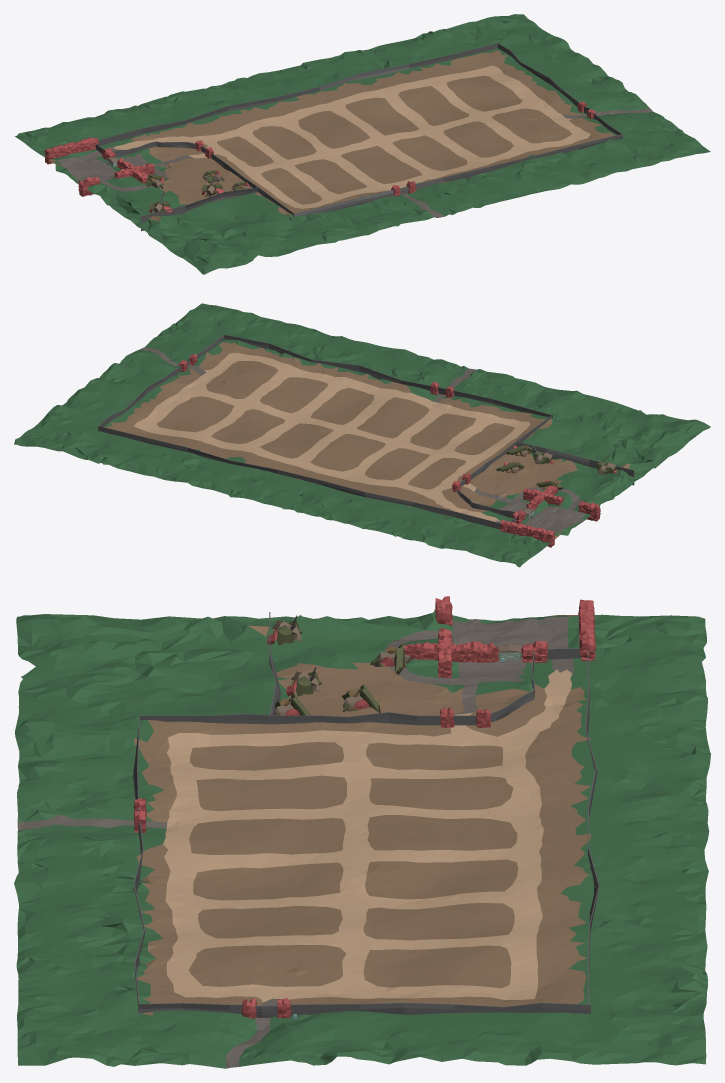
The model's file is junkyard_2.fbx.
3 views of the same model, one above another, from view 1: azimuth 30°, elevation 25°; view 2: azimuth 150°, elevation 25°; view 3: azimuth 270°, elevation 25° (orthographic). The views are drawn at different scales.
Visible parts, largest first — view 1: junkyard_ground, pCube211, pCube210, pCube222, pCube203, pCube212, pCube213; view 2: junkyard_ground, pCube211, pCube210, pCube203, pCube222, pCube212, pCube213; view 3: junkyard_ground, pCube212, pCube213, pCube211, pCube223, pCube203, pCube209, pCube210.
Boxes of the visible parts, x1,y1,x2,y2 form: junkyard_ground: (14, 14, 710, 274); pCube211: (98, 43, 497, 145); pCube210: (293, 134, 621, 217); pCube222: (141, 187, 258, 231); pCube203: (44, 137, 99, 164); pCube212: (497, 43, 622, 138); pCube213: (201, 145, 294, 215); junkyard_ground: (14, 303, 710, 567); pCube211: (99, 426, 500, 529); pCube210: (224, 334, 552, 418); pCube203: (500, 519, 554, 547); pCube222: (516, 441, 634, 485); pCube212: (98, 334, 223, 431); pCube213: (460, 415, 552, 486); junkyard_ground: (14, 611, 710, 1068); pCube212: (138, 1002, 590, 1015); pCube213: (139, 712, 477, 725); pCube211: (585, 649, 599, 1004); pCube223: (403, 641, 452, 678); pCube203: (578, 599, 595, 660); pCube209: (438, 628, 487, 662); pCube210: (133, 716, 145, 1005).
Bounding box in the file's own units: 5075 × 288 × 3293.
